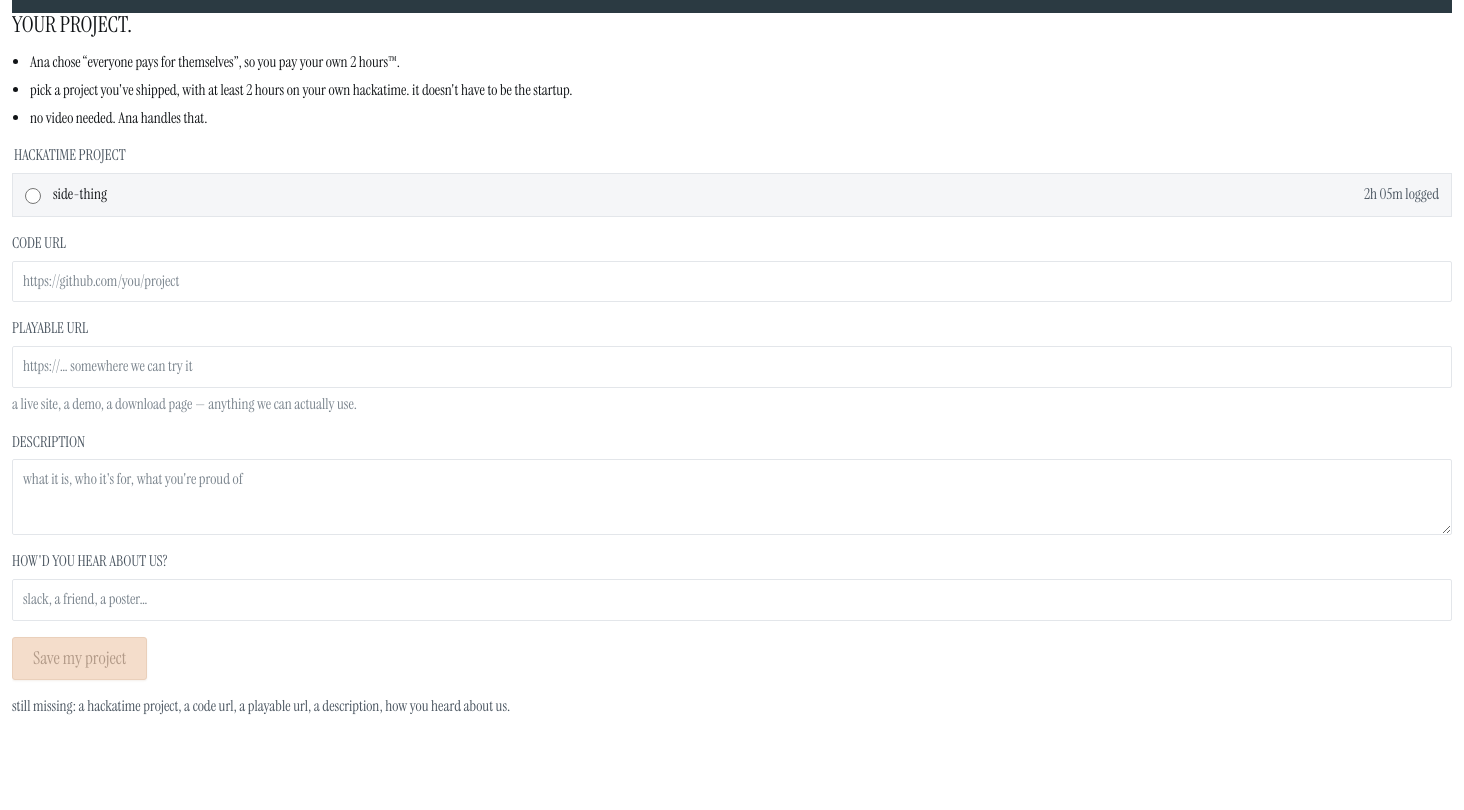
Scenario: PartnerProjectForm › lets a 2-hour project be picked and enables save once complete
Click the radio button labelled "side-thing 2h 05m logged". click: [33, 196]
box: [25, 188, 41, 204]
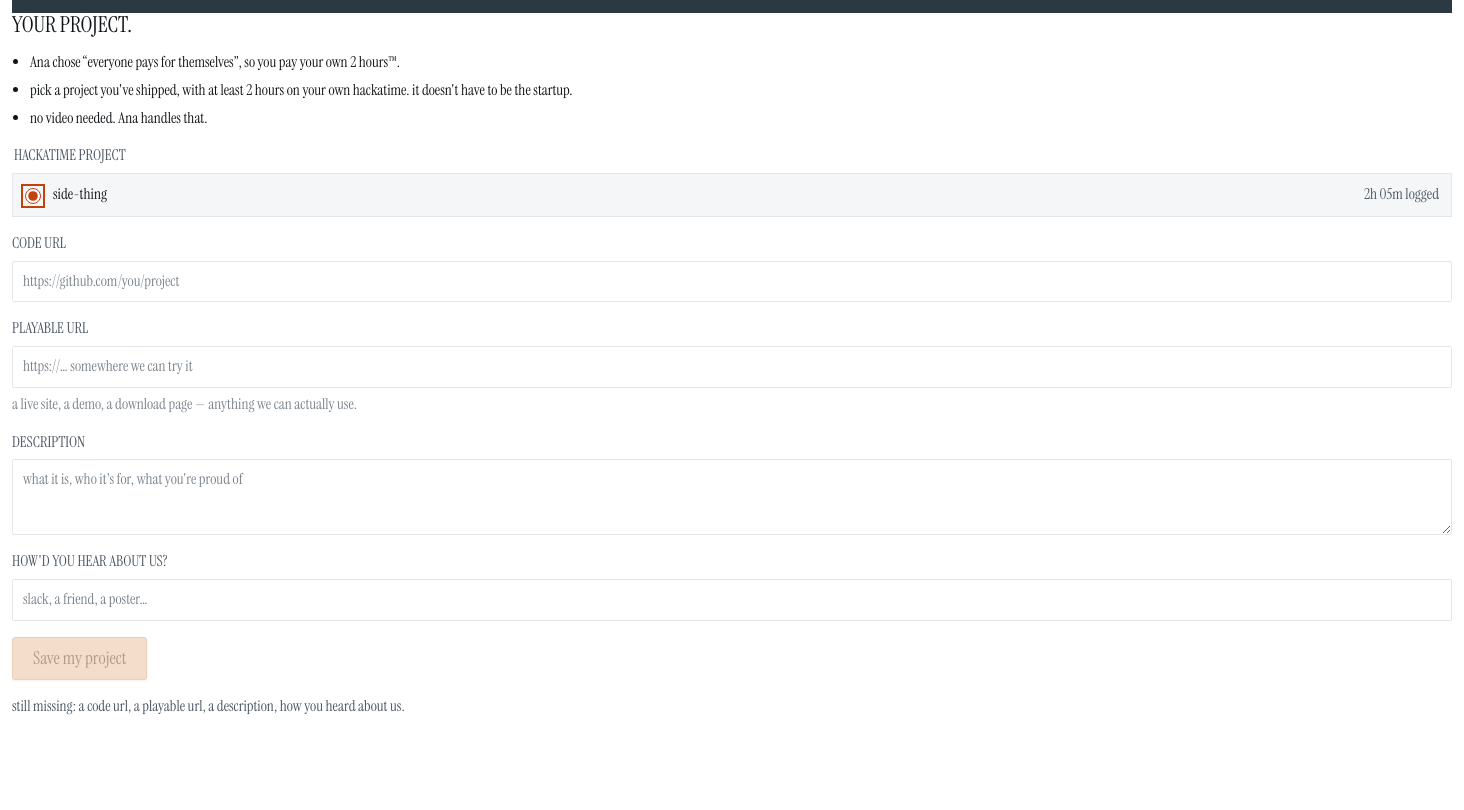
Type "https://github.com/ben/side-thing" into the field labelled "Code URL". click: [732, 282]
box: [12, 261, 1452, 302]
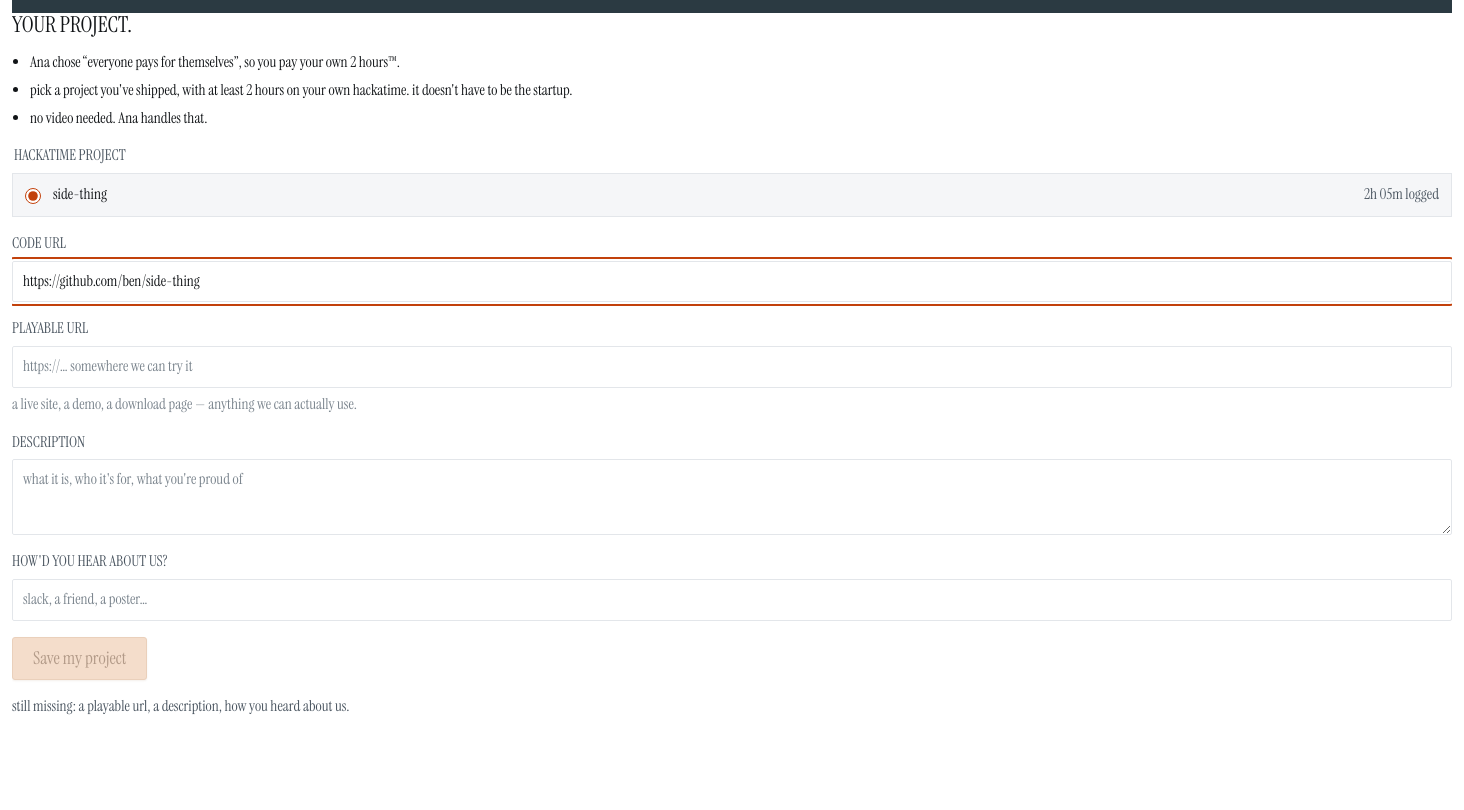
Type "https://side.example.com" into the field labelled "Playable URL". click: [732, 367]
box: [12, 346, 1452, 388]
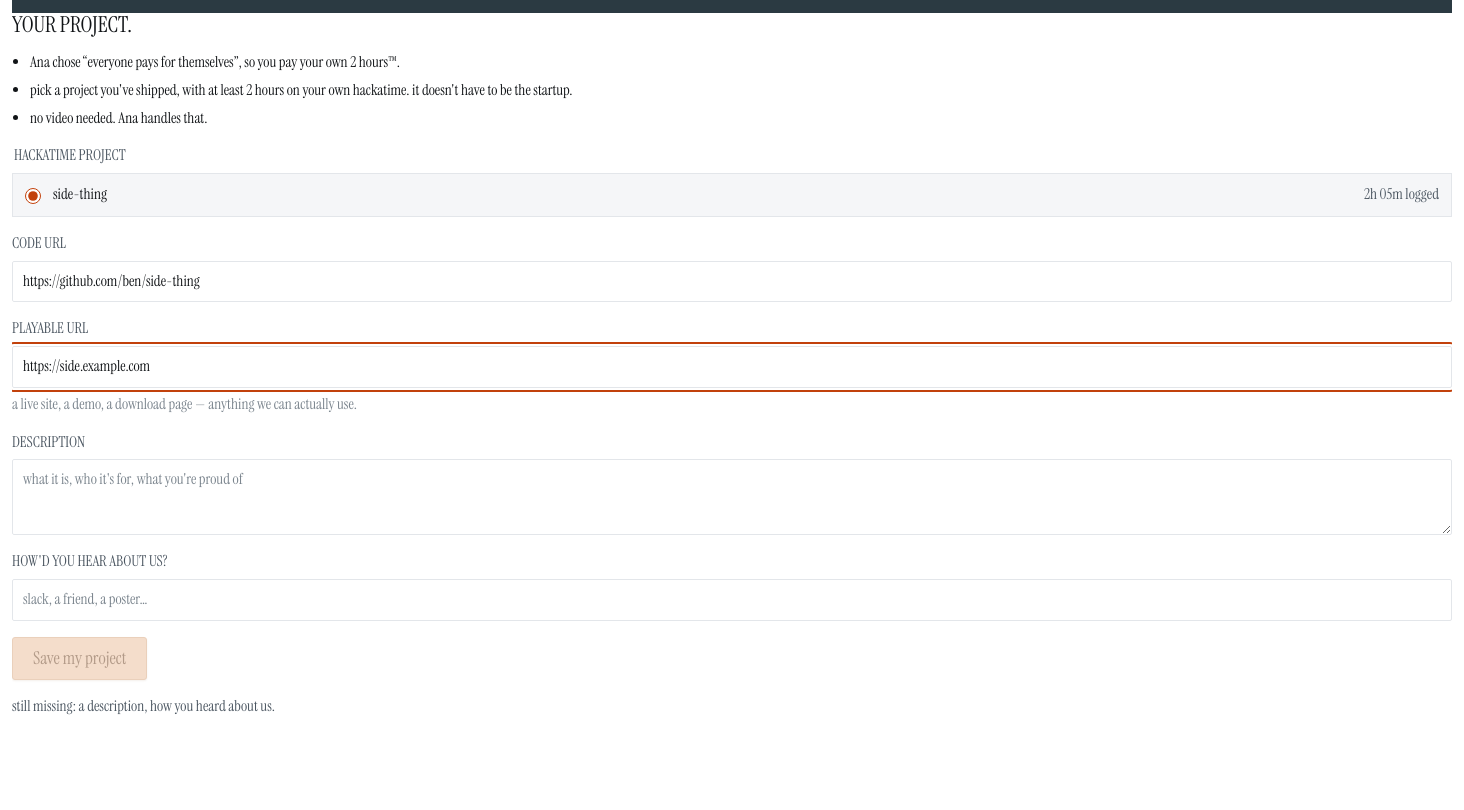
Type "a thing" into the text box labelled "Description". click: [732, 497]
box: [12, 459, 1452, 535]
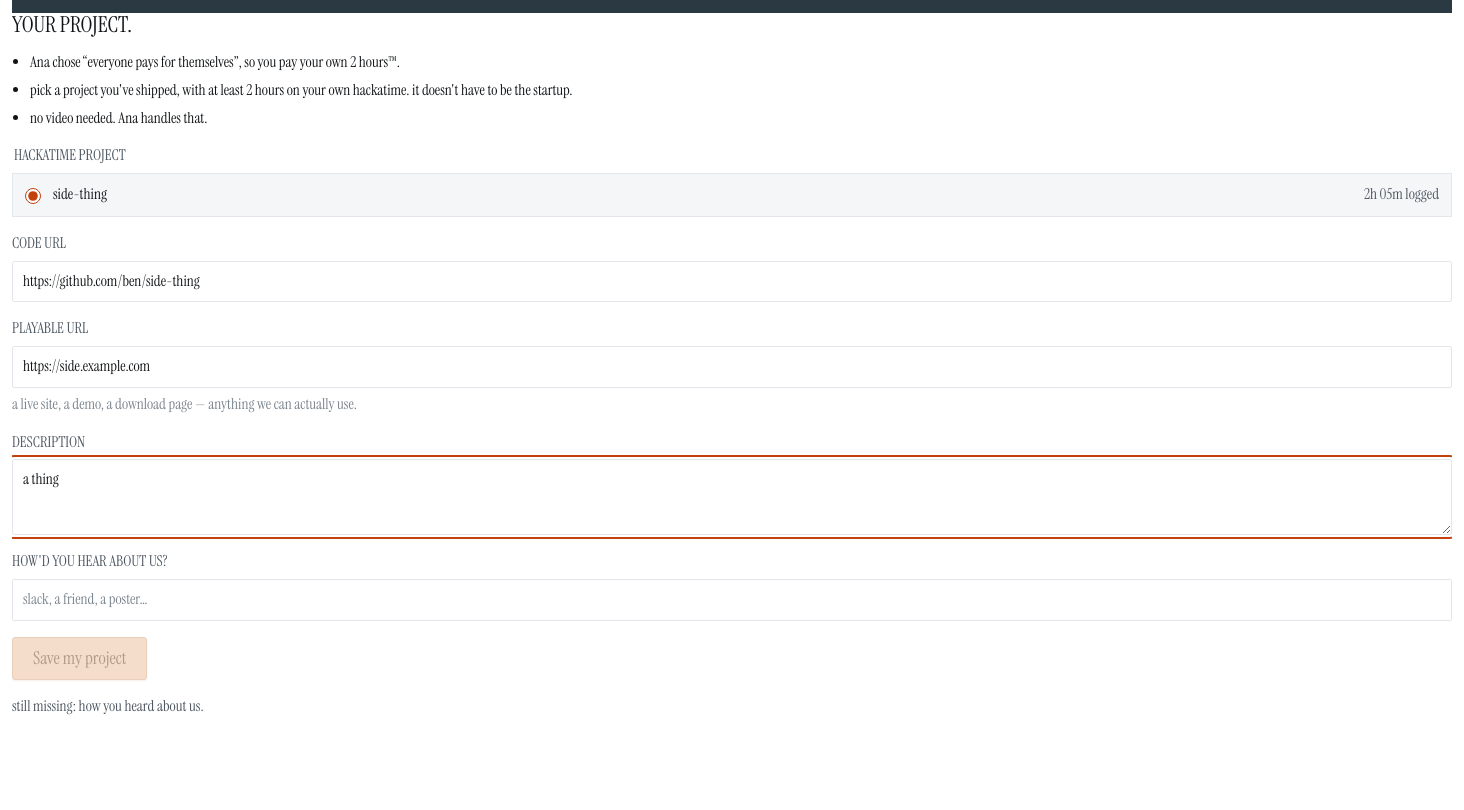
Type "Ana" into the field labelled "How'd you hear about us?". click: [732, 600]
box: [12, 579, 1452, 621]
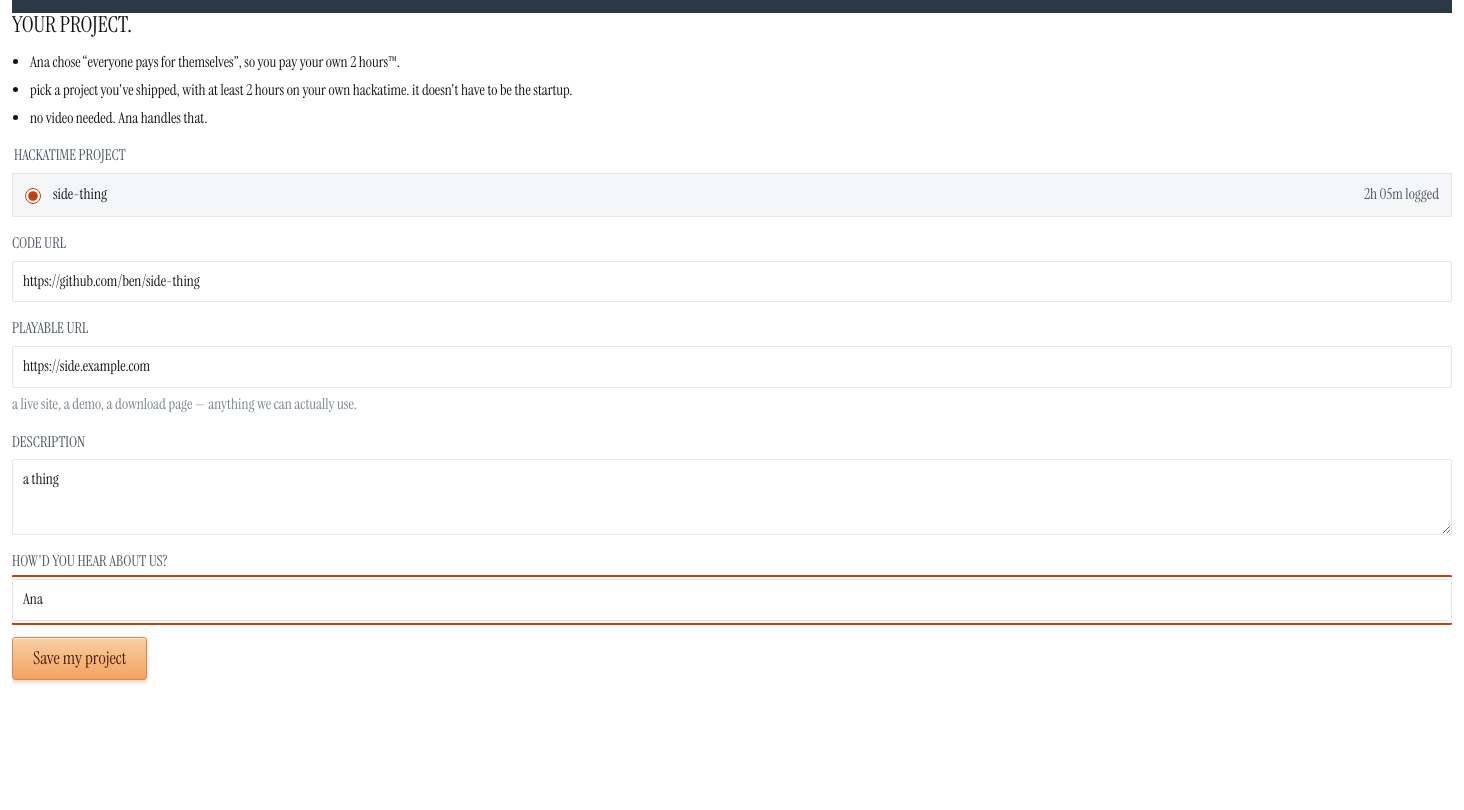
Expected: the button "Save my project" is enabled, [12, 637, 147, 680]
Expected: the text with test id "partner-still-missing" is gone
